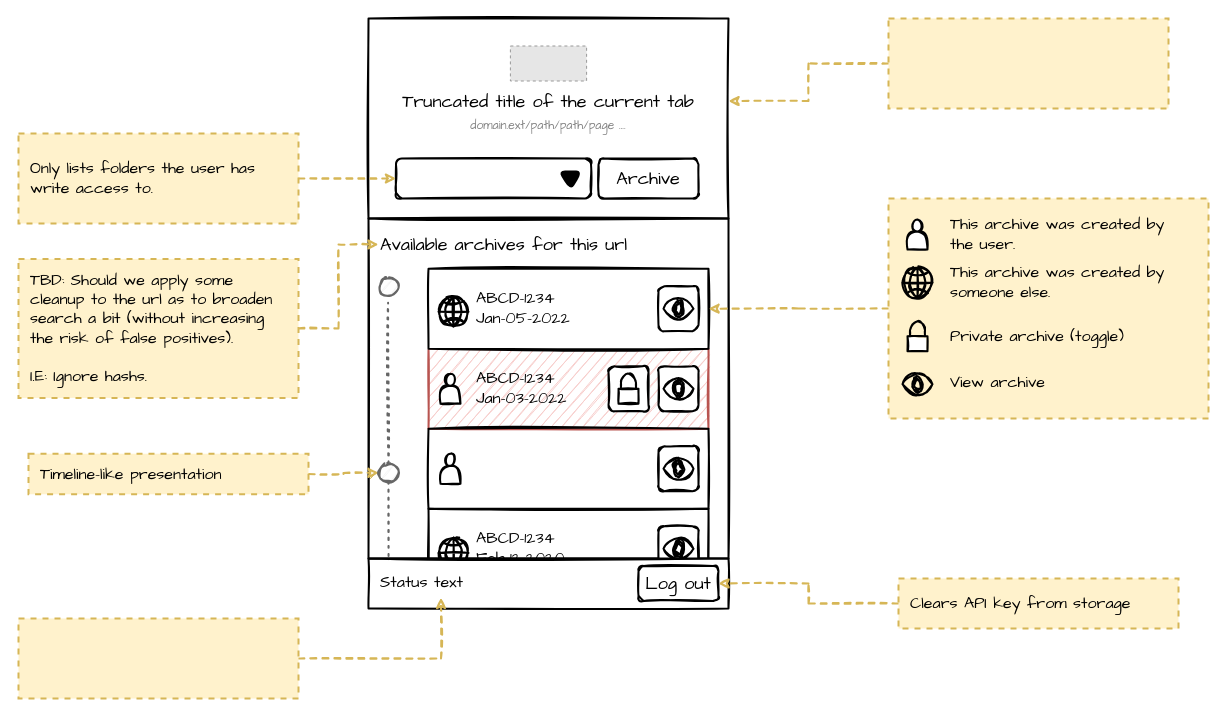
Some shapes in this 1226 by 716 pixel diagram are drawn without their labels. Grey dashed boxes stand in for pictures. The box of each missing label's shape, as (x1, y1, x2, y2) in pixels:
ABCD-1234 Jun-07-2021: (427, 427, 709, 509)
Folder: (394, 157, 592, 199)
Keeps user updated of progress of background processes.: (17, 617, 299, 699)
Replaced by API key form (and instructions) if not logged in.: (887, 17, 1169, 109)
